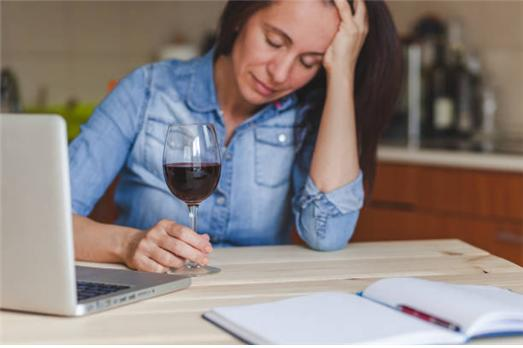alcohol: (162, 117, 227, 276)
